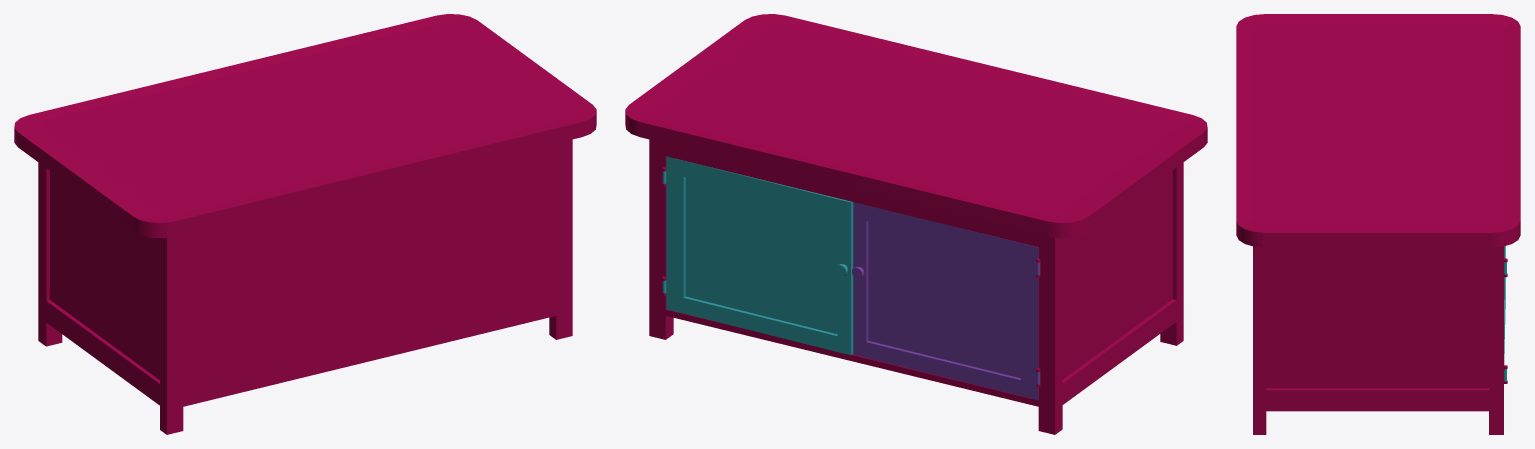
The model's file is armario_chico.fbx.
The picture shows the model from 3 angles, left to right: view 1: azimuth 30°, elevation 25°; view 2: azimuth 150°, elevation 25°; view 3: azimuth 270°, elevation 25°; orthographic projection. The views are drawn at different scales.
Visible parts, largest first — view 1: cuerpo; view 2: cuerpo, puerta1, puerta2; view 3: cuerpo.
Part boxes in pixels (x1,y1,x2,y2): cuerpo: (14,14,596,434); cuerpo: (625,14,1207,434); puerta1: (662,156,853,355); puerta2: (852,202,1040,400); cuerpo: (1236,14,1520,434).
Bounding box in the file's own units: 3.99 × 1.83 × 2.19.
